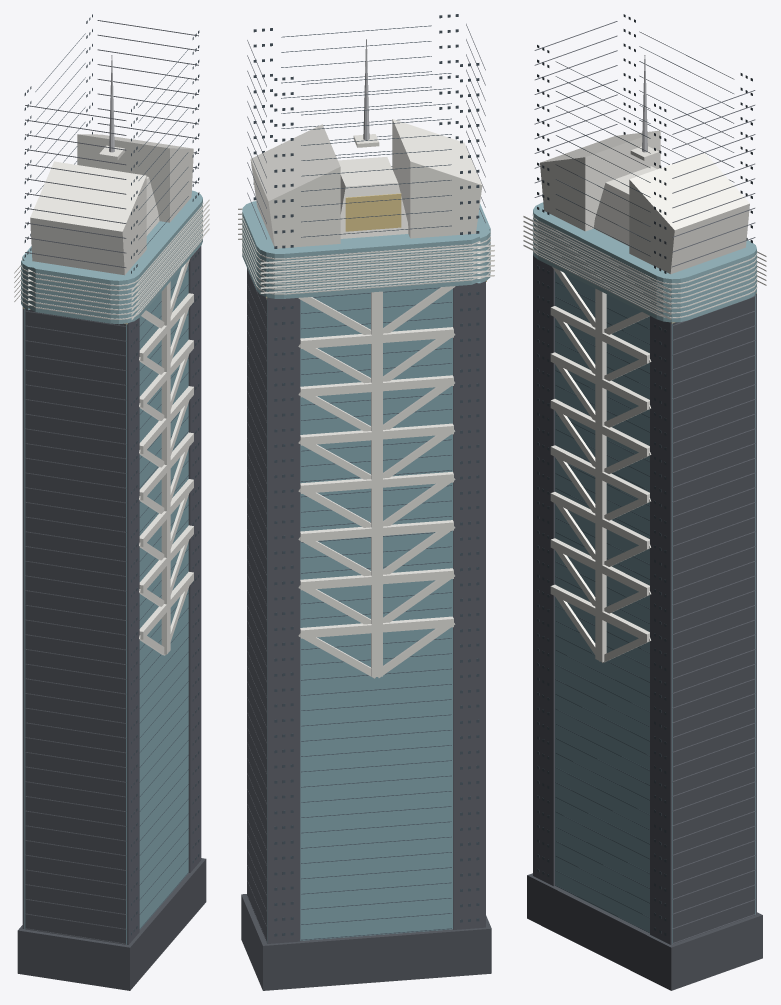
Rendered from millennium-tower-detailed.glb.
3 views of the same model, side by side, from view 1: azimuth 30°, elevation 25°; view 2: azimuth 150°, elevation 25°; view 3: azimuth 270°, elevation 25° (orthographic). The views are drawn at different scales.
Visible parts, largest first — view 1: ShortFaceDark_x-1, Body_GlassShaft, Wing_Left, Podium_Base, Drum_GlassBand, SideWing_b-1_x265, SideWing_b-1_x-265, Wing_Right, CenterMul_b-1, SideWing_b1_x-265, DiagHor_b-1_s6, DiagHor_b-1_s7 (+6 smaller); view 2: Body_GlassShaft, SideWing_b1_x265, SideWing_b1_x-265, ShortFaceDark_x1, Podium_Base, Drum_GlassBand, Wing_Right, Wing_Left, CenterMul_b1, Crown_CenterBox, Crown_LogoFront, DiagHor_b1_s7 (+23 smaller); view 3: ShortFaceDark_x1, Body_GlassShaft, SideWing_b-1_x265, SideWing_b-1_x-265, Podium_Base, Wing_Right, Drum_GlassBand, Wing_Left, CenterMul_b-1, Crown_CenterBox, SideWing_b1_x265, DiagHor_b-1_s1 (+6 smaller).
Boxes of the visible parts, x1,y1,x2,y2 form: ShortFaceDark_x-1: [25, 309, 125, 944]; Body_GlassShaft: [24, 264, 188, 944]; Wing_Left: [30, 161, 146, 275]; Podium_Base: [17, 858, 206, 990]; Drum_GlassBand: [21, 190, 202, 324]; SideWing_b-1_x265: [188, 246, 201, 872]; SideWing_b-1_x-265: [127, 318, 139, 944]; Wing_Right: [77, 134, 193, 222]; CenterMul_b-1: [161, 281, 170, 654]; SideWing_b1_x-265: [22, 307, 24, 928]; DiagHor_b-1_s6: [139, 525, 193, 593]; DiagHor_b-1_s7: [139, 572, 193, 639]; Body_GlassShaft: [267, 287, 452, 942]; SideWing_b1_x265: [267, 297, 300, 943]; SideWing_b1_x-265: [453, 281, 485, 929]; ShortFaceDark_x1: [247, 269, 266, 941]; Podium_Base: [241, 894, 491, 990]; Drum_GlassBand: [242, 201, 490, 298]; Wing_Right: [250, 124, 340, 248]; Wing_Left: [392, 119, 482, 238]; CenterMul_b1: [371, 291, 382, 677]; Crown_CenterBox: [338, 157, 408, 238]; Crown_LogoFront: [345, 193, 401, 231]; DiagHor_b1_s7: [300, 616, 453, 638]; ShortFaceDark_x1: [672, 295, 754, 943]; Body_GlassShaft: [555, 271, 755, 944]; SideWing_b-1_x265: [650, 316, 671, 944]; SideWing_b-1_x-265: [533, 253, 554, 886]; Podium_Base: [527, 873, 762, 990]; Wing_Right: [629, 153, 749, 274]; Drum_GlassBand: [533, 202, 756, 322]; Wing_Left: [540, 130, 660, 231]; CenterMul_b-1: [595, 288, 606, 662]; Crown_CenterBox: [593, 166, 656, 245]; SideWing_b1_x265: [755, 293, 756, 914]; DiagHor_b-1_s1: [550, 306, 649, 363].
Size of the model in its own units: 74.85 by 285 by 71.17.
